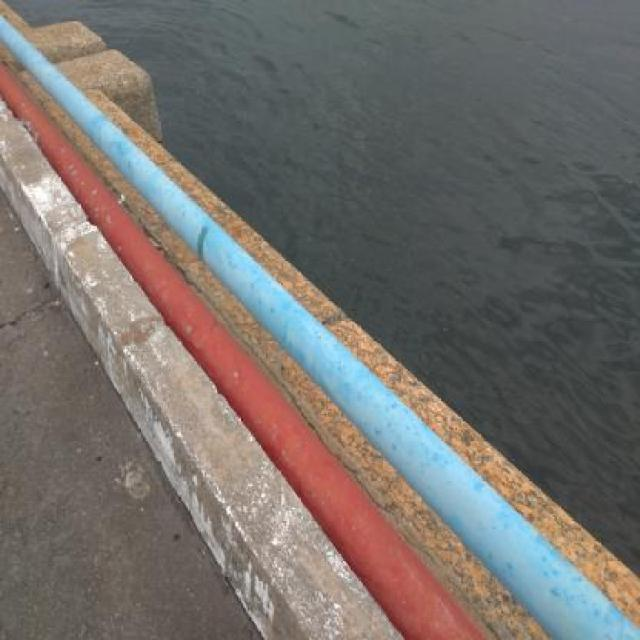gas: (2, 15, 640, 640), (2, 61, 480, 640)
